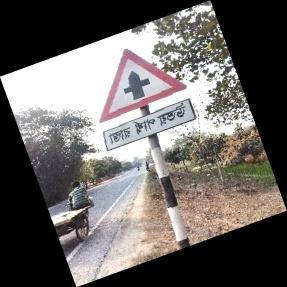Crossroad: (98, 48, 194, 155)
